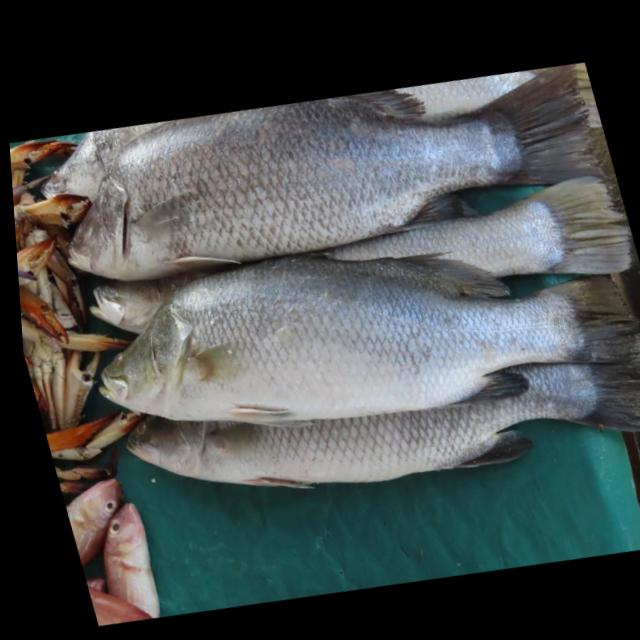Seabass: (58, 168, 640, 493), (25, 22, 625, 330)
